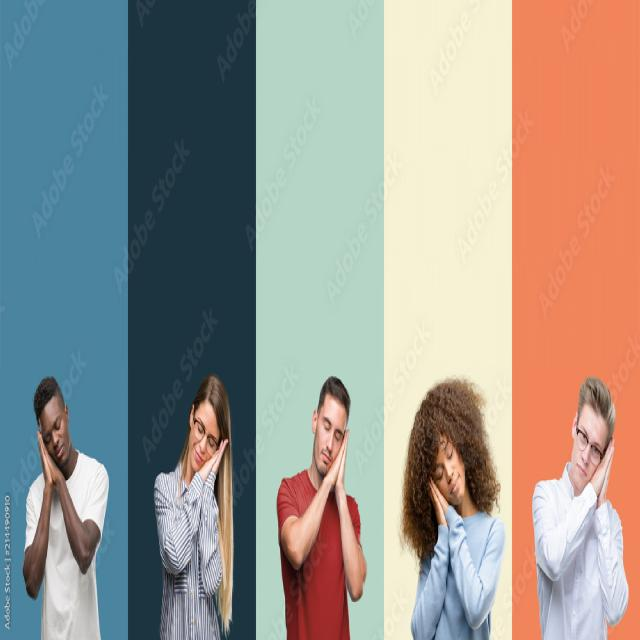Sleepy: (434, 437, 466, 506), (317, 400, 344, 476), (189, 401, 217, 474), (37, 403, 69, 461)
